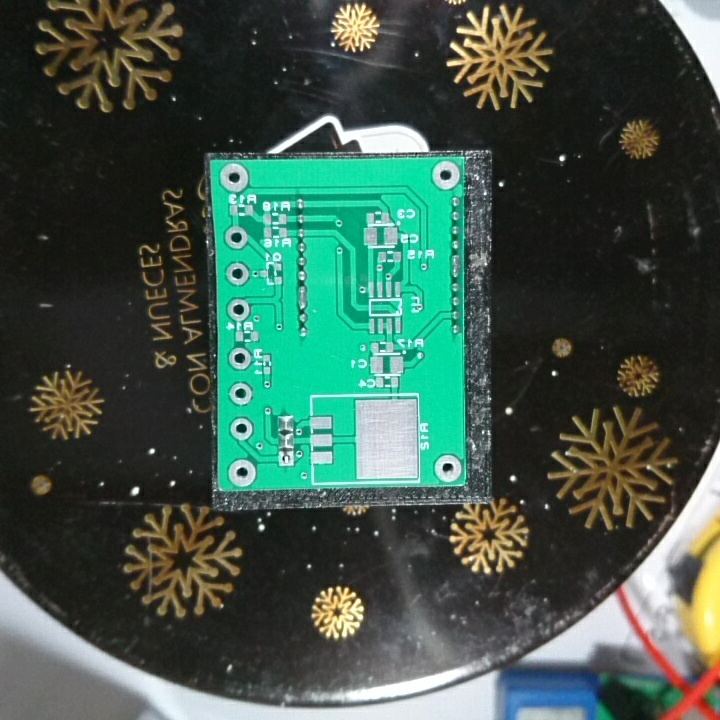F: (216, 160, 252, 195), (225, 457, 261, 490), (429, 159, 461, 191), (431, 453, 463, 484), (223, 258, 252, 288), (228, 380, 257, 410), (226, 346, 253, 375), (225, 296, 253, 323), (221, 224, 250, 250), (227, 418, 256, 443), (276, 449, 298, 470)
P: (295, 281, 311, 312), (449, 250, 463, 281)
